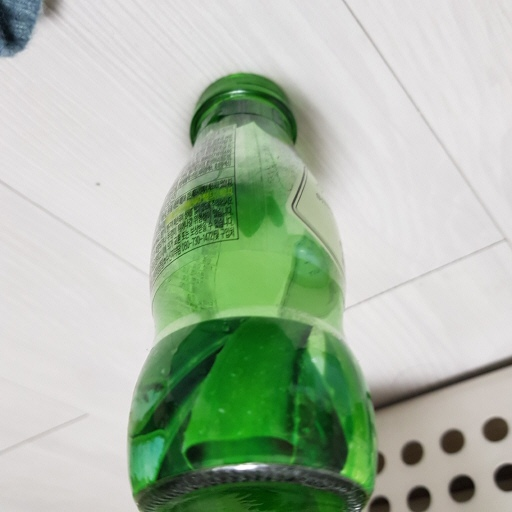Glass_4: (122, 68, 380, 512)
